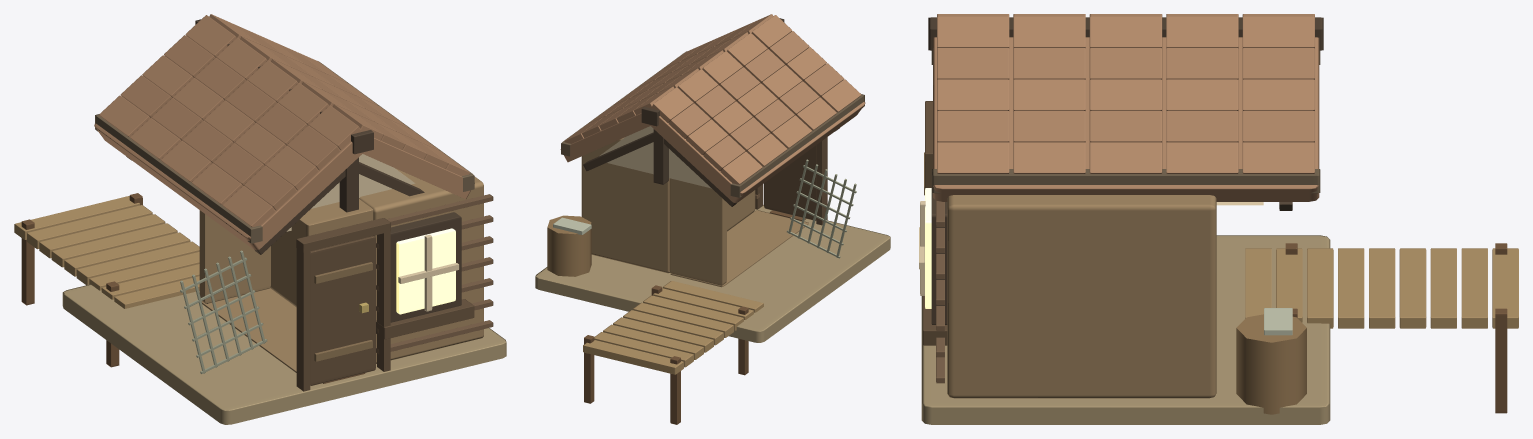
Rendered from fishinghut-3.glb.
3 views of the same model, side by side, from view 1: azimuth 30°, elevation 25°; view 2: azimuth 150°, elevation 25°; view 3: azimuth 270°, elevation 25° (orthographic). The views are drawn at different scales.
Visible parts, largest first — view 1: fishinghut-3-0, door-hinge; view 2: fishinghut-3-0, door-hinge; view 3: fishinghut-3-0.
Part boxes in pixels (x1,y1,x2,y2): fishinghut-3-0: [14, 14, 506, 424]; door-hinge: [310, 236, 375, 385]; fishinghut-3-0: [535, 14, 890, 424]; door-hinge: [764, 145, 816, 220]; fishinghut-3-0: [919, 14, 1518, 424].
Size of the model in its own units: 1.87 by 1.97 by 2.72.
